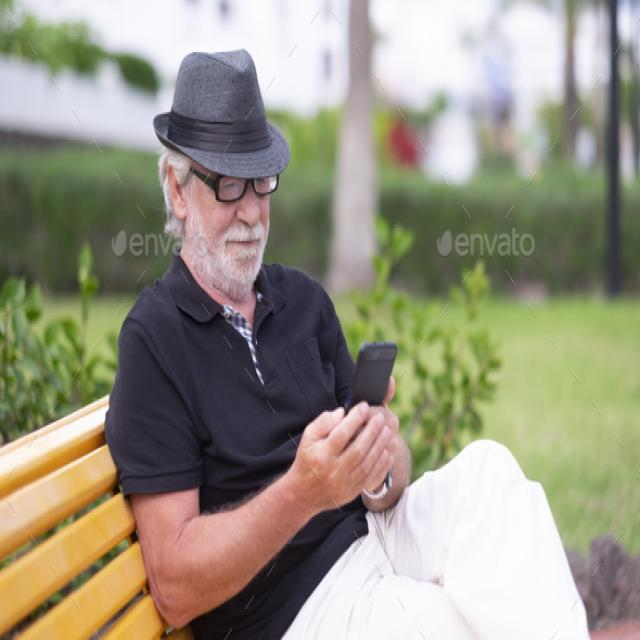hat: (153, 36, 299, 199)
